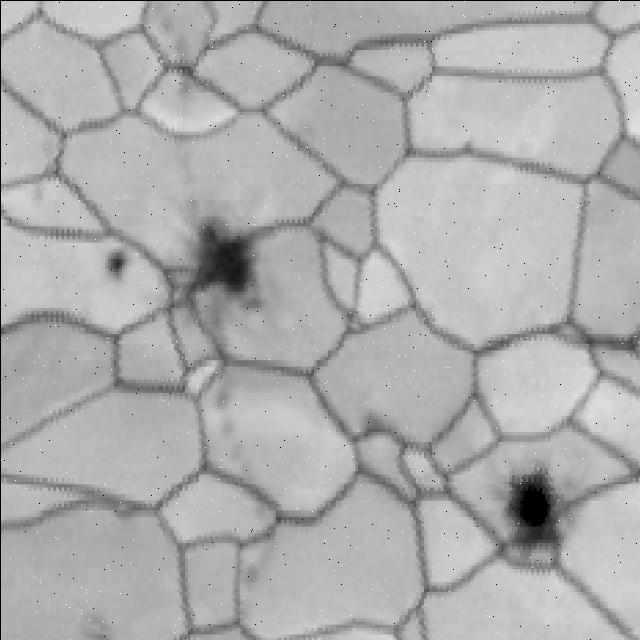good_void: (175, 208, 262, 352), (497, 458, 563, 560), (338, 389, 405, 462), (151, 45, 204, 97), (236, 551, 268, 596), (71, 607, 112, 640), (448, 126, 480, 168), (101, 245, 131, 279)
